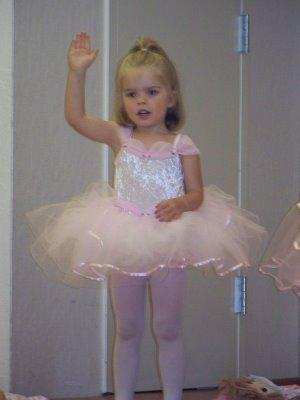person: (64, 34, 203, 400)
